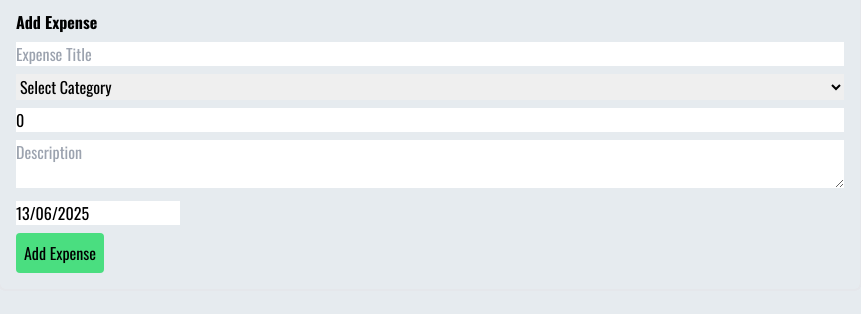
addExpense › AddExpensesAppDashboardProps input validations › displays an error message if the {"name":"title"} field is empty
Select "Rent" in the dropdown with test id "category" at [430, 87], box [16,74,844,100]
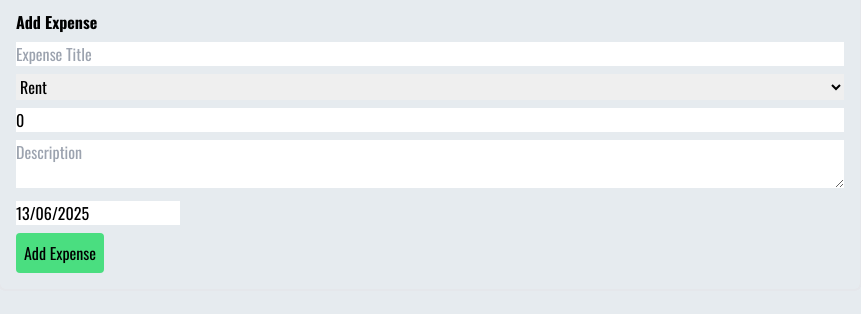
Replace the text in the number field with test id "amount" with "100" at [430, 120], box [16,108,844,132]
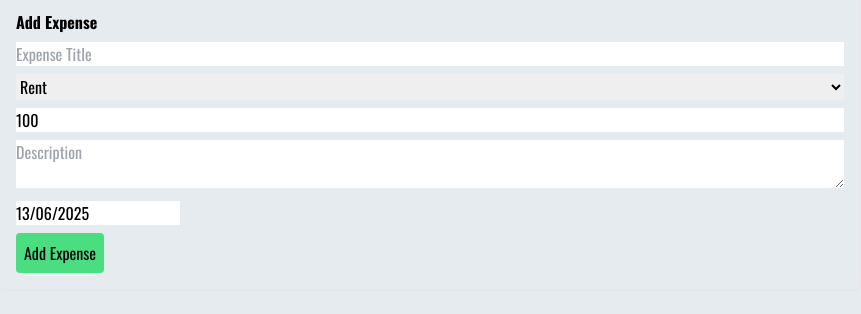
Type "description" into the text box with test id "description" at [430, 164], box [16,140,844,188]
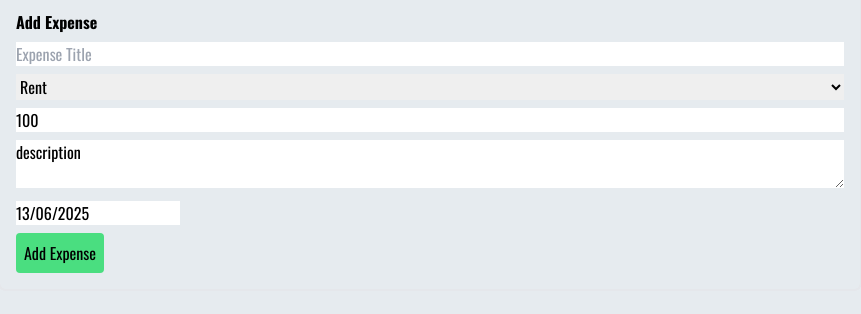
Submit the form with test id "add-expense-form"
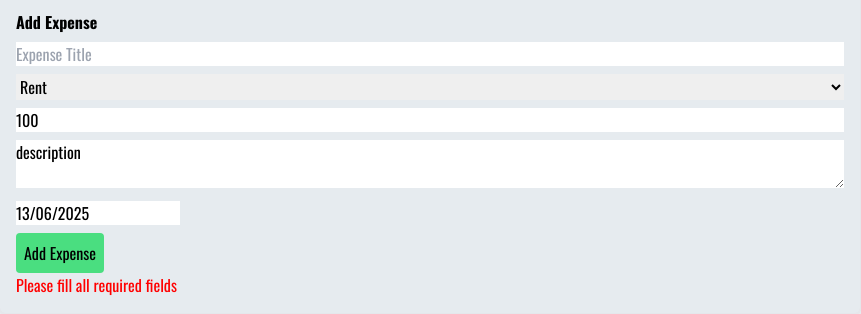
Now the text with test id "submit-message" reads "Please fill all required fields", box [16,273,177,297]
